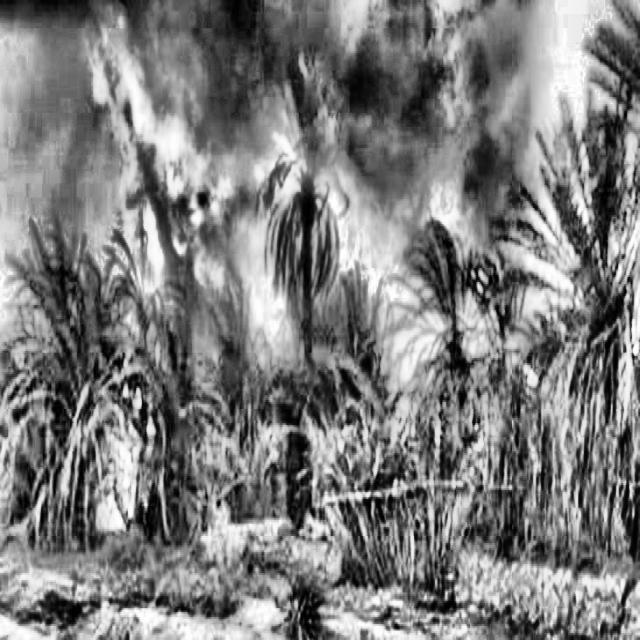fire: (72, 21, 570, 526)
